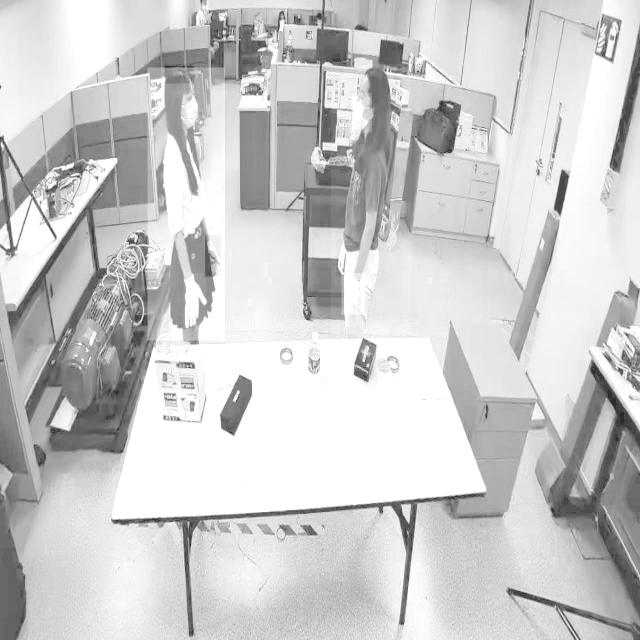face_mask: (178, 90, 200, 129), (352, 94, 372, 132), (202, 0, 209, 13)
hand_glove: (183, 273, 207, 331), (341, 273, 365, 315), (205, 235, 221, 277), (336, 240, 348, 277)
head_nohelmet: (361, 66, 391, 84), (164, 66, 194, 84)
person: (331, 64, 412, 335), (147, 68, 225, 342)
